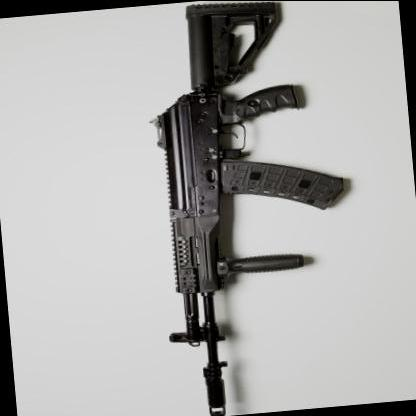rifle: (121, 0, 380, 416)
